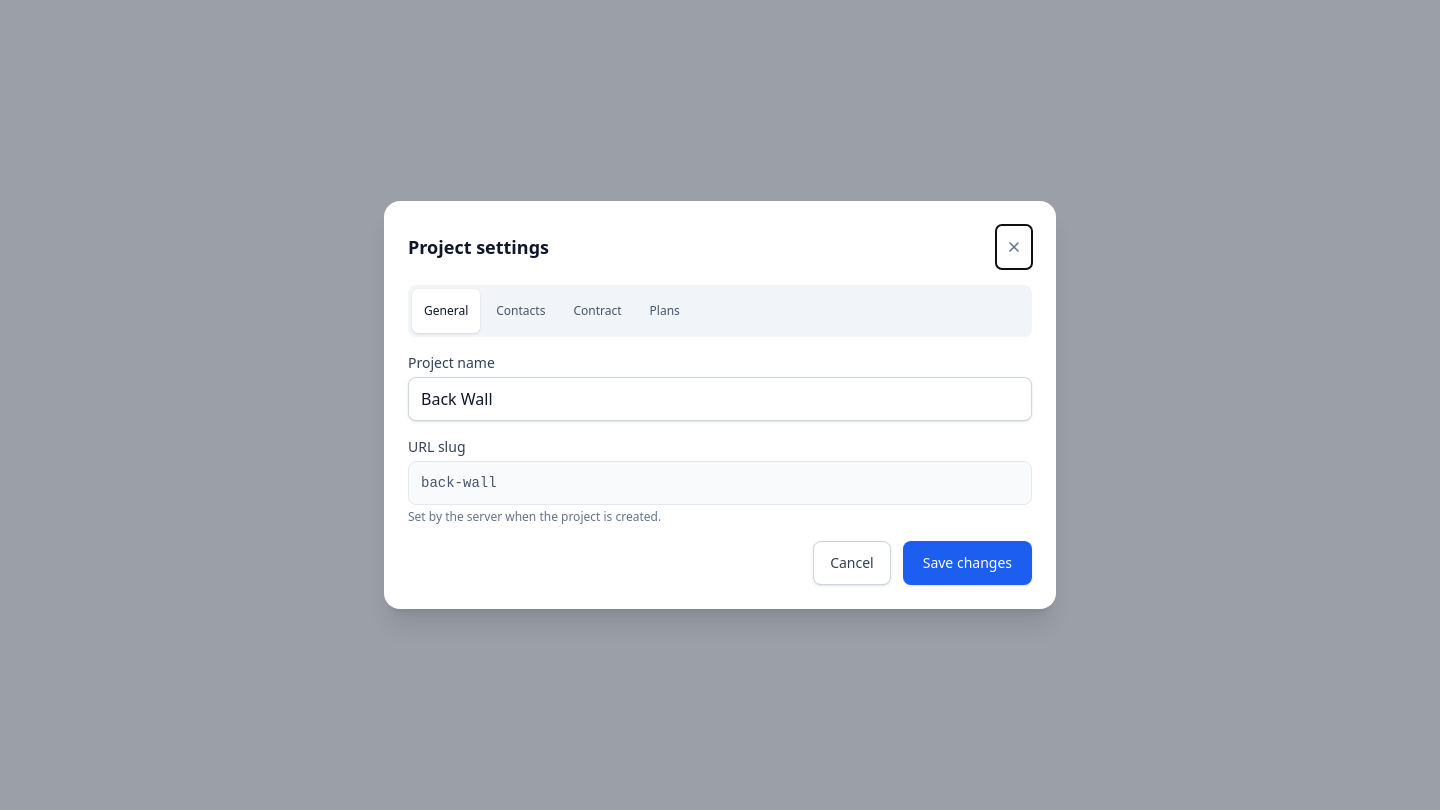
SettingsModal › switches to the Plans tab and shows the placeholder
The width and height of the screenshot is (1440, 810).
Click the tab "Plans" at (665, 311), box [638,289,692,333]
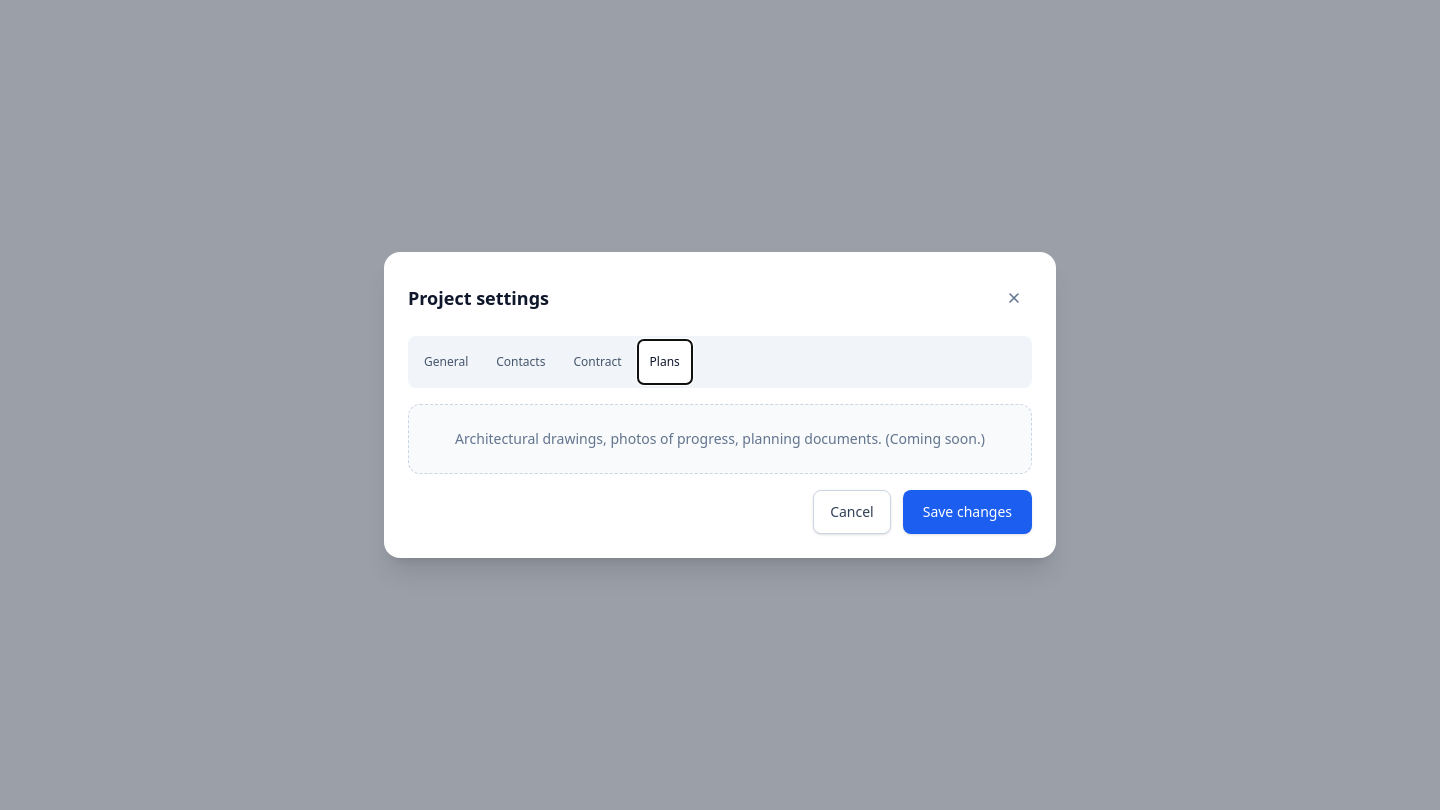
Check: the text "Architectural drawings, photos of progress" is shown, box [455,429,985,448]
